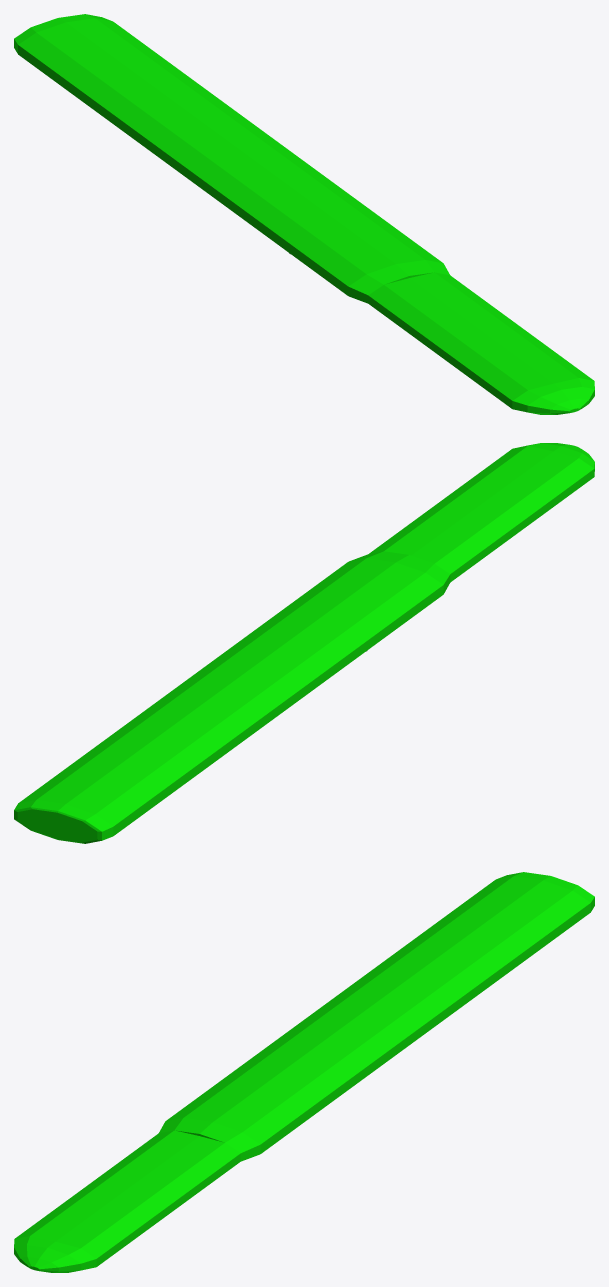
File: Toothbrush.glb
The picture shows the model from 3 angles, top to bottom: view 1: azimuth 30°, elevation 25°; view 2: azimuth 150°, elevation 25°; view 3: azimuth 330°, elevation 25°; orthographic projection.
Parts seen in each view (by area): view 1: Cylinder; view 2: Cylinder; view 3: Cylinder.
Boxes of the visible parts, box(x1,y1,x2,y2) form: Cylinder: box(14, 14, 594, 414); Cylinder: box(14, 443, 594, 843); Cylinder: box(14, 872, 594, 1272).
Bounding box in the file's own units: 2.27 × 0.7156 × 21.33.
